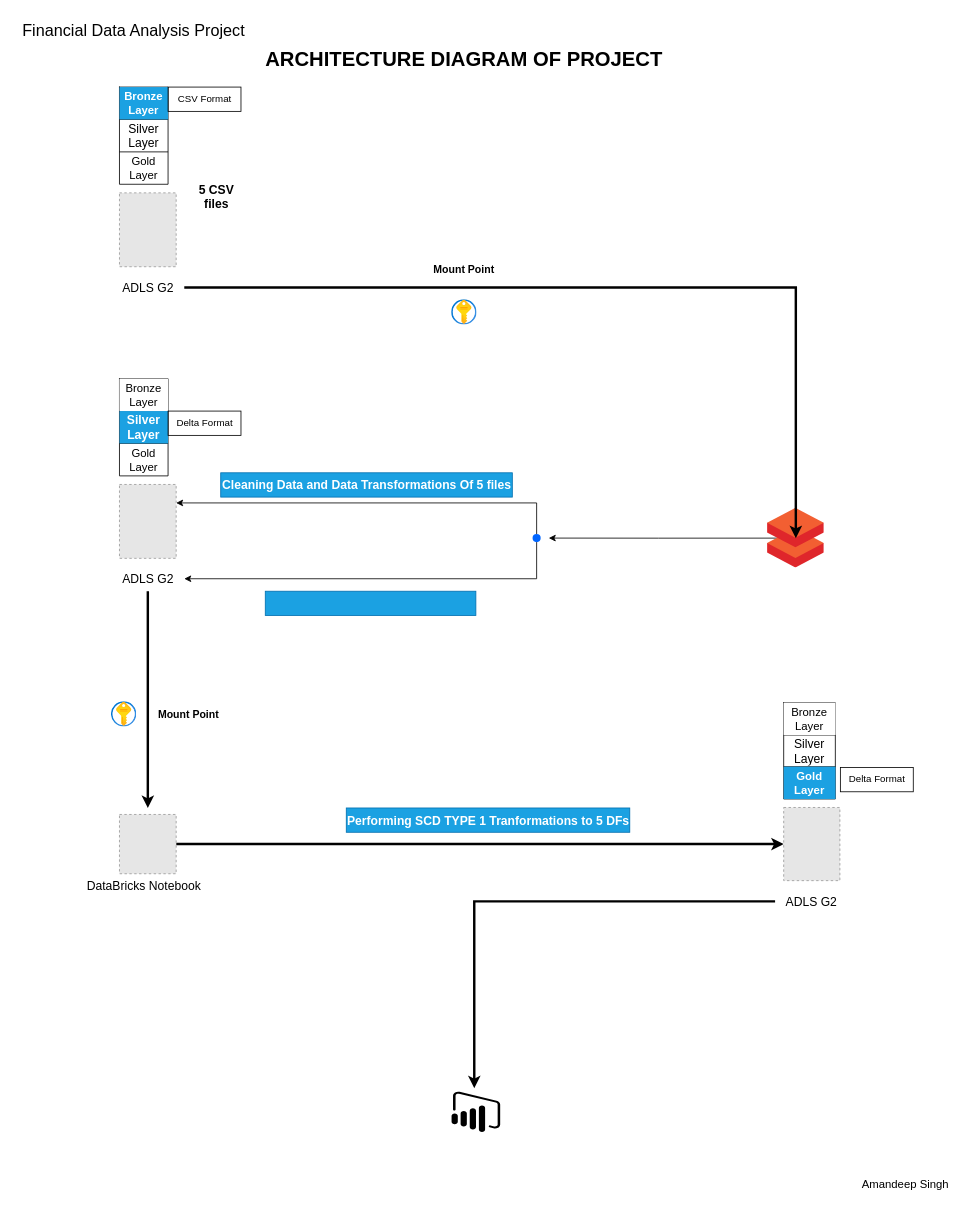
Image size: 971x1210. Some labels were removed from this diagram. Grey dashed boxes stand in for pictures. Here are the shapes that lost their labels. From the top down, the centre of each, then its label:
the point at 795,538: Databricks Spark
the point at 370,603: Combining the 5 files data into 1 file
the point at 475,1111: Power BI Dashboard
